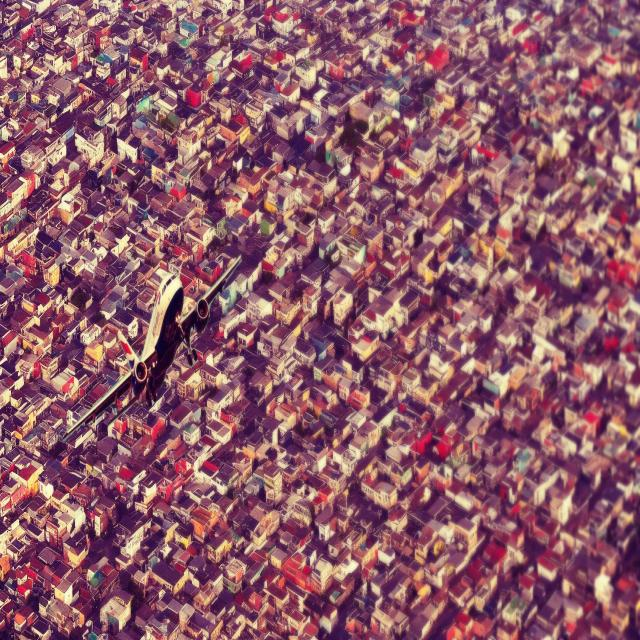airplane: (58, 252, 242, 445)
